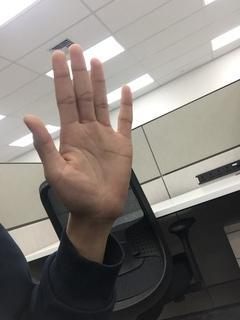hand: (20, 44, 136, 216)
